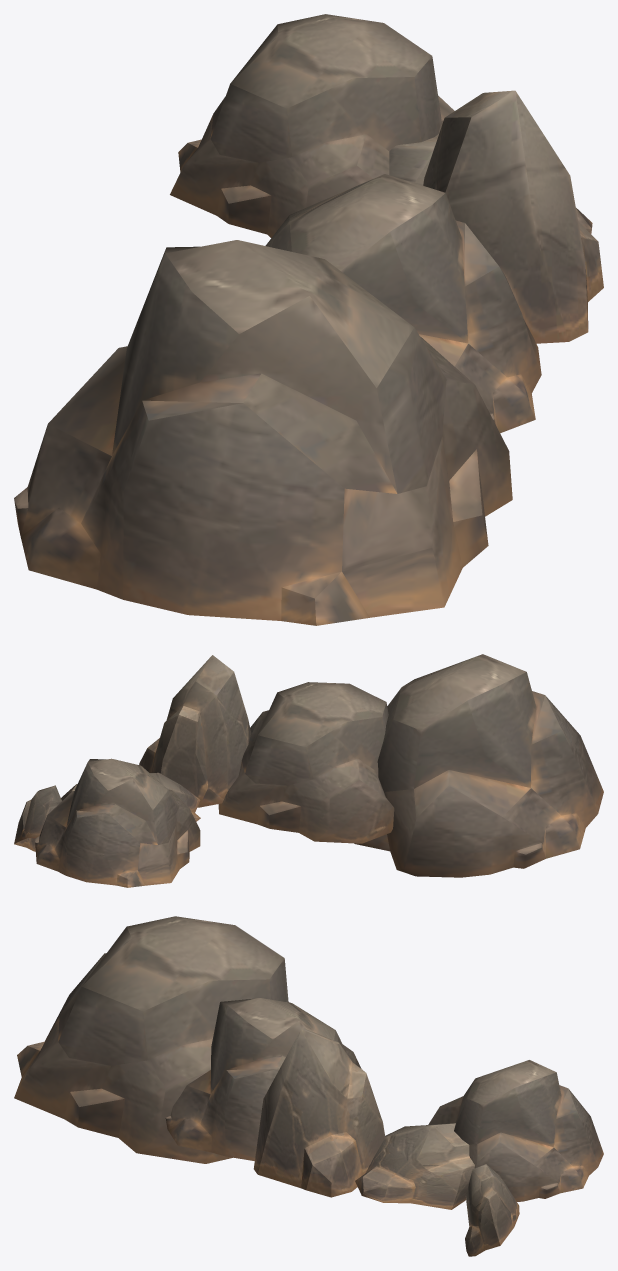
File: pref_sm_beach_bk_pointmol_leftrock_lv1.fbx
3 renders of one model, top to bottom at view 1: azimuth 30°, elevation 25°; view 2: azimuth 150°, elevation 25°; view 3: azimuth 270°, elevation 25°, orthographic. The views are drawn at different scales.
Parts seen in each view (by area): view 1: pref_sm_beach_bk_pointmol_leftrock_lv1; view 2: pref_sm_beach_bk_pointmol_leftrock_lv1; view 3: pref_sm_beach_bk_pointmol_leftrock_lv1.
Boxes of the visible parts, x1=… form: pref_sm_beach_bk_pointmol_leftrock_lv1: x1=14, y1=14, x2=603, y2=625; pref_sm_beach_bk_pointmol_leftrock_lv1: x1=14, y1=654, x2=603, y2=887; pref_sm_beach_bk_pointmol_leftrock_lv1: x1=14, y1=916, x2=603, y2=1256.
Bounding box in the file's own units: 9.44 × 3.5 × 10.49.
